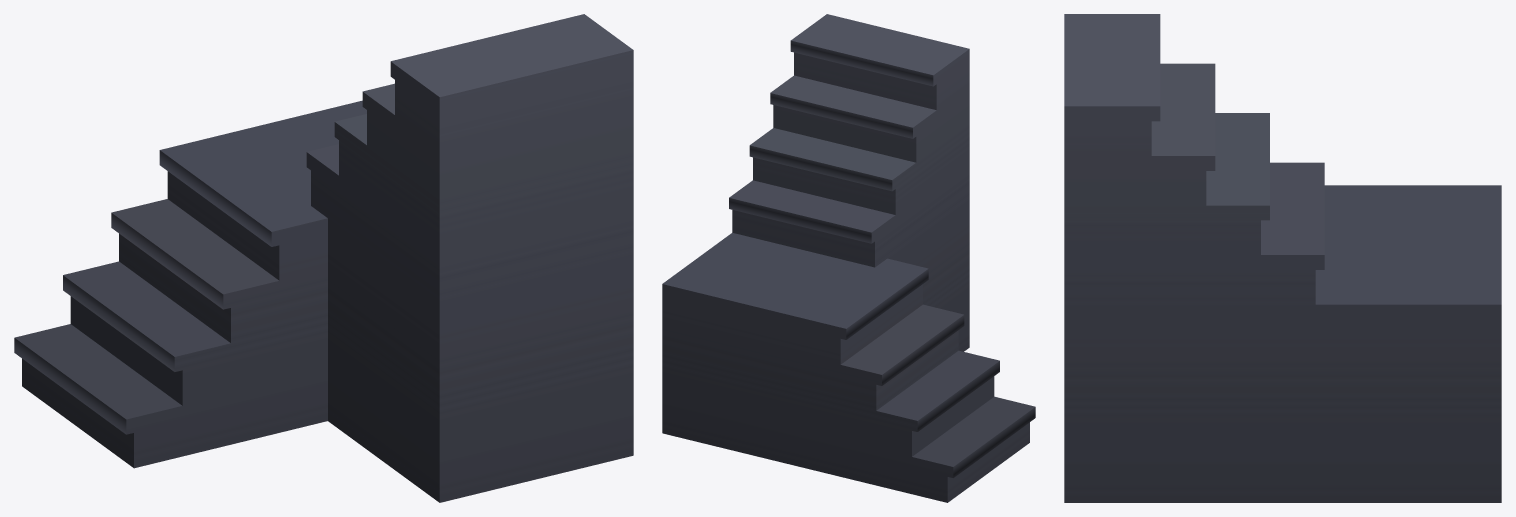
The model's file is stairs-stone-corner.glb.
3 views of the same model, side by side, from view 1: azimuth 30°, elevation 25°; view 2: azimuth 150°, elevation 25°; view 3: azimuth 270°, elevation 25° (orthographic). The views are drawn at different scales.
Parts seen in each view (by area): view 1: stairs-stone-corner; view 2: stairs-stone-corner; view 3: stairs-stone-corner.
Part boxes in pixels (box(x1,y1,x2,y2)): stairs-stone-corner: box(14, 14, 633, 502); stairs-stone-corner: box(662, 14, 1035, 502); stairs-stone-corner: box(1064, 14, 1501, 502).
Bounding box in the file's own units: 1.02 × 1 × 1.
Materials: 1 (1 with a texture image).
